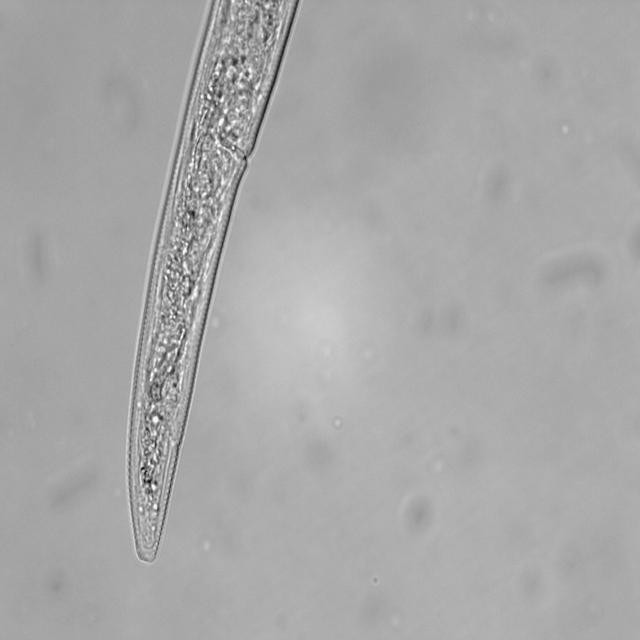Pratylenchus: (114, 0, 341, 568)
